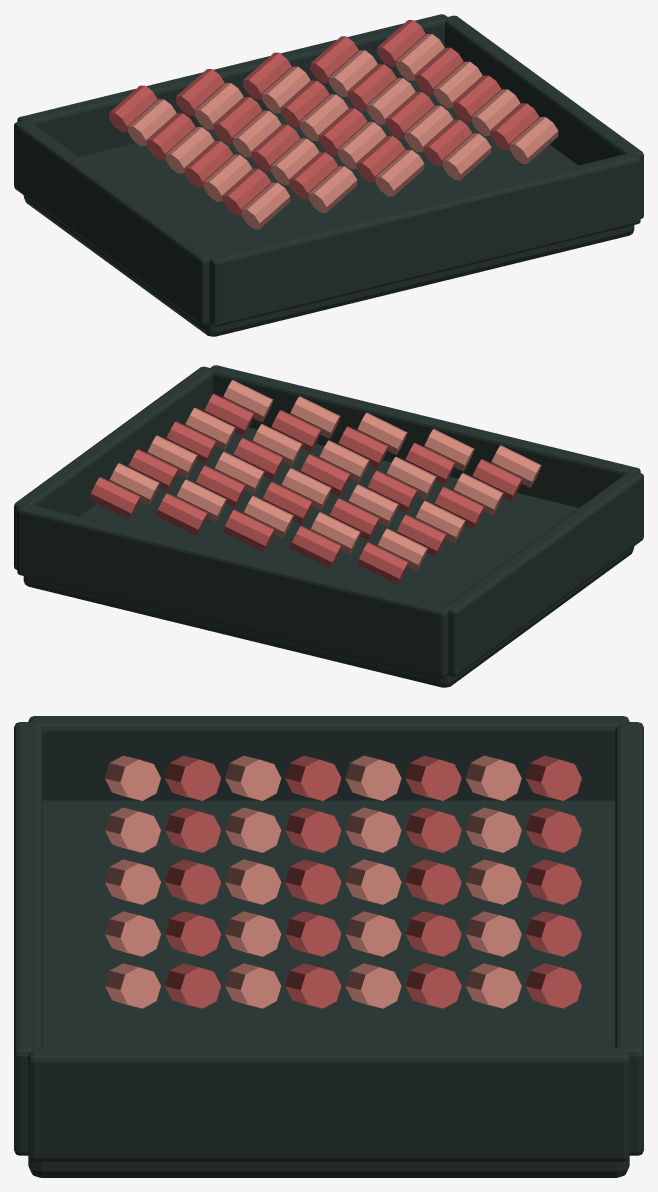
Rendered from ground_beef.fbx.
3 views of the same model, one above another, from view 1: azimuth 30°, elevation 25°; view 2: azimuth 150°, elevation 25°; view 3: azimuth 270°, elevation 25° (orthographic). The views are drawn at different scales.
Parts seen in each view (by area): view 1: ground_beef; view 2: ground_beef; view 3: ground_beef.
Part boxes in pixels (x1,y1,x2,y2): ground_beef: (14, 14, 643, 336); ground_beef: (14, 365, 643, 687); ground_beef: (14, 716, 643, 1177).
Size of the model in its own units: 31.1 by 7.25 by 24.1.
